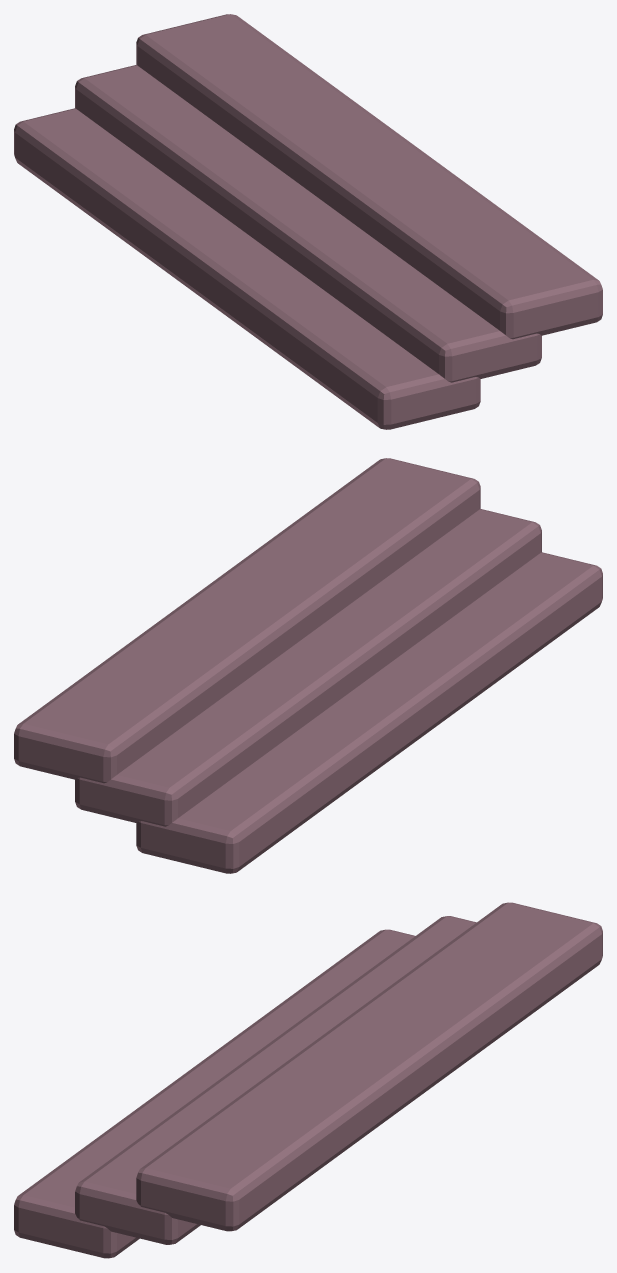
Rendered from wood.glb.
3 views of the same model, one above another, from view 1: azimuth 30°, elevation 25°; view 2: azimuth 150°, elevation 25°; view 3: azimuth 330°, elevation 25° (orthographic).
Parts seen in each view (by area): view 1: Plank.002, Plank, Plank.001; view 2: Plank.002, Plank, Plank.001; view 3: Plank.002, Plank, Plank.001.
Part boxes in pixels (bbox=[...]): Plank.002: bbox=[136, 14, 602, 339]; Plank: bbox=[14, 108, 480, 429]; Plank.001: bbox=[75, 65, 541, 382]; Plank.002: bbox=[14, 458, 480, 783]; Plank: bbox=[136, 552, 602, 873]; Plank.001: bbox=[75, 509, 541, 826]; Plank.002: bbox=[136, 902, 602, 1231]; Plank: bbox=[14, 929, 414, 1258]; Plank.001: bbox=[75, 916, 476, 1244].
Bounding box in the file's own units: 0.66 × 0.28 × 1.9.
